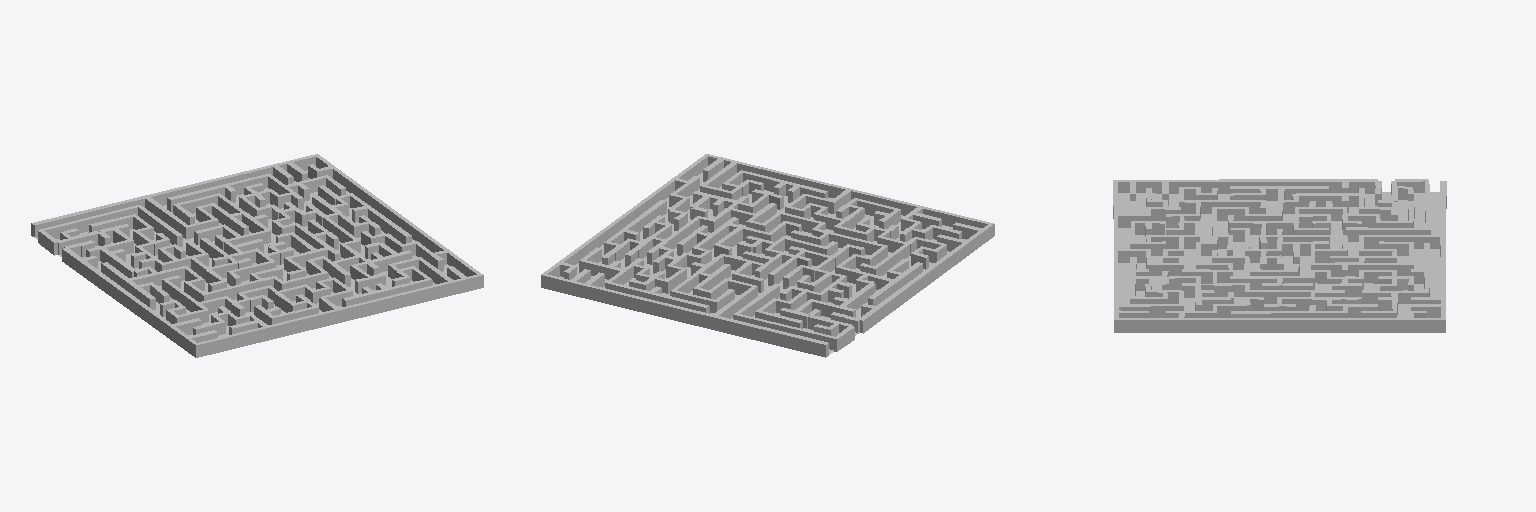
The model's file is labyrinth.obj.
The picture shows the model from 3 angles: view 1: azimuth 30°, elevation 25°; view 2: azimuth 150°, elevation 25°; view 3: azimuth 270°, elevation 25°; orthographic projection.
Visible parts, largest first — view 1: Labyrinth; view 2: Labyrinth; view 3: Labyrinth.
Part boxes in pixels (bbox=[...]): Labyrinth: bbox=[31, 154, 483, 357]; Labyrinth: bbox=[541, 154, 994, 357]; Labyrinth: bbox=[1113, 179, 1446, 332].
Bounding box in the file's own units: 15.09 × 0.6342 × 15.06.